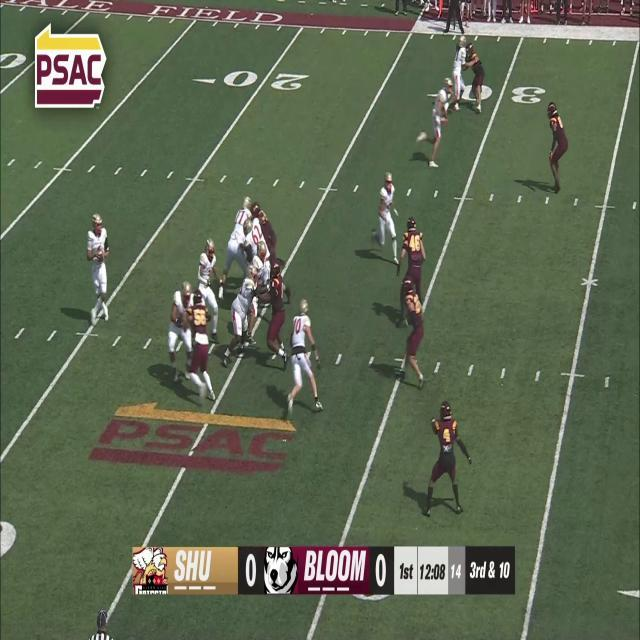football: (96, 248, 102, 263)
